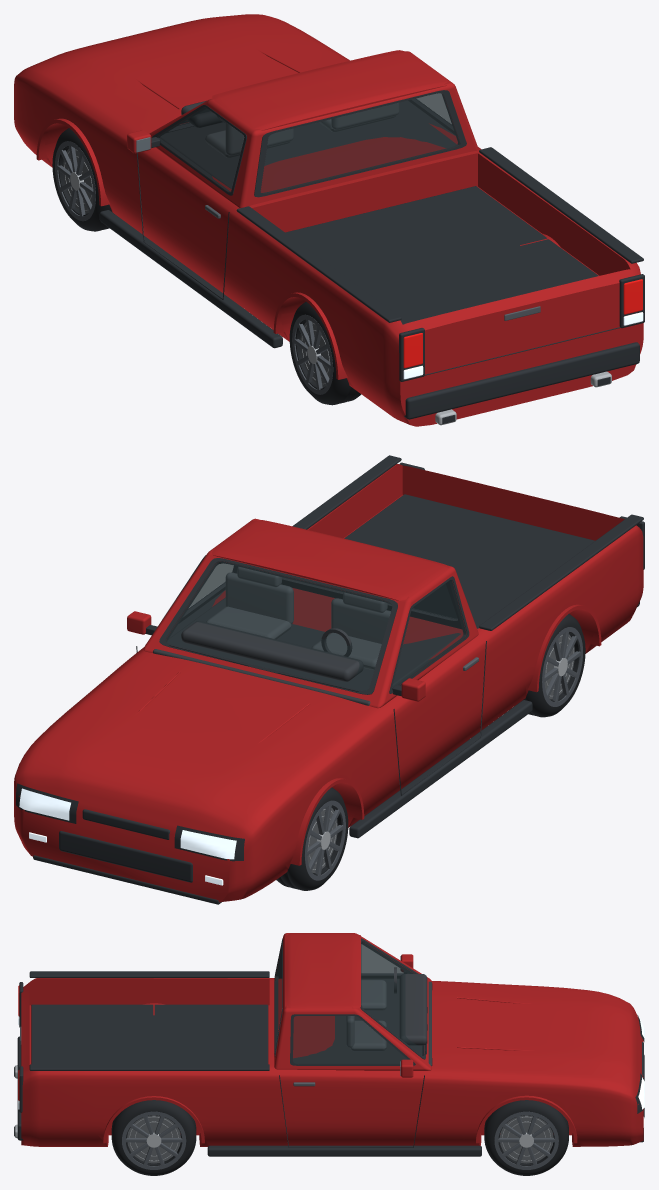
File: sydney-ute.glb
3 renders of one model, top to bottom at view 1: azimuth 30°, elevation 25°; view 2: azimuth 150°, elevation 25°; view 3: azimuth 270°, elevation 25°, orthographic. The views are drawn at different scales.
Visible parts, largest first — view 1: Body geometry, Running wheel geometry.002, Running wheel geometry; view 2: Body geometry, Running wheel geometry, Running wheel geometry.002; view 3: Body geometry, Running wheel geometry.003, Running wheel geometry.001.
Boxes of the visible parts, x1,y1,x2,y2 form: Body geometry: [14, 14, 644, 426]; Running wheel geometry.002: [289, 301, 361, 405]; Running wheel geometry: [52, 128, 112, 231]; Body geometry: [14, 455, 644, 904]; Running wheel geometry: [276, 787, 348, 890]; Running wheel geometry.002: [523, 614, 585, 717]; Body geometry: [14, 933, 644, 1156]; Running wheel geometry.003: [111, 1100, 196, 1175]; Running wheel geometry.001: [484, 1100, 568, 1175].
Size of the model in its own units: 1.5 by 1.02 by 3.57.
